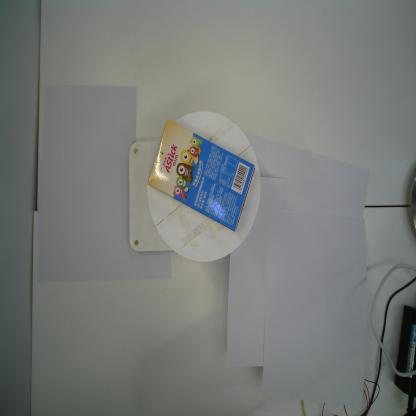Dessert: (145, 118, 256, 233)
